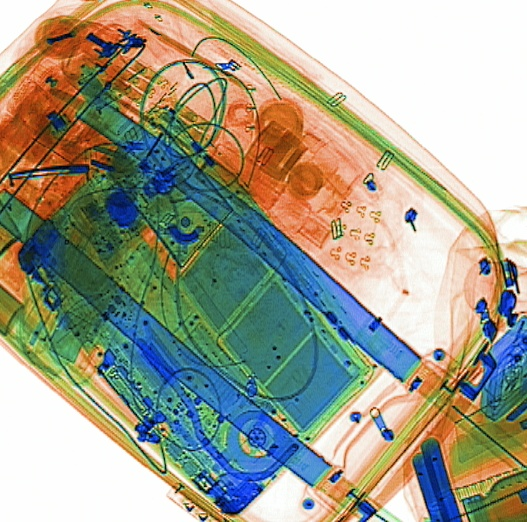powerbank: (410, 430, 466, 520)
